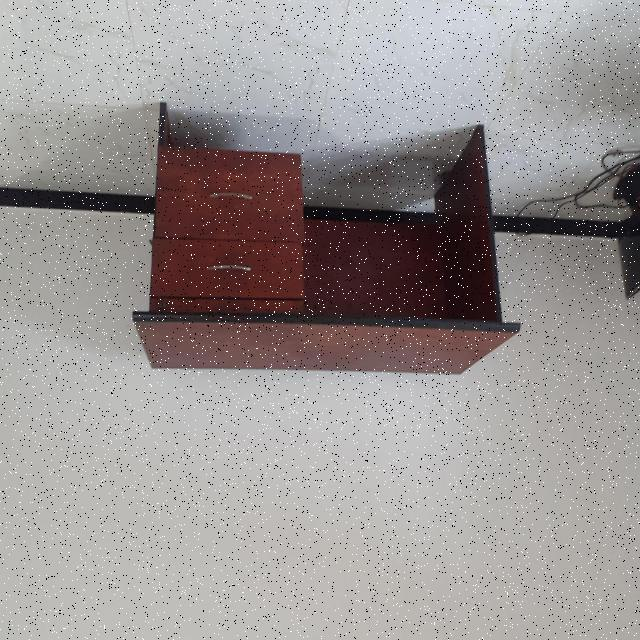mobile-phone: (130, 100, 522, 382)
